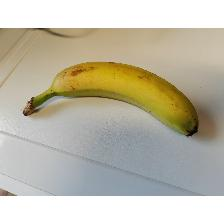Banane: (21, 60, 201, 138)
